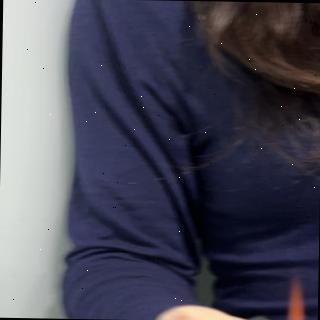fire: (284, 269, 310, 320)
